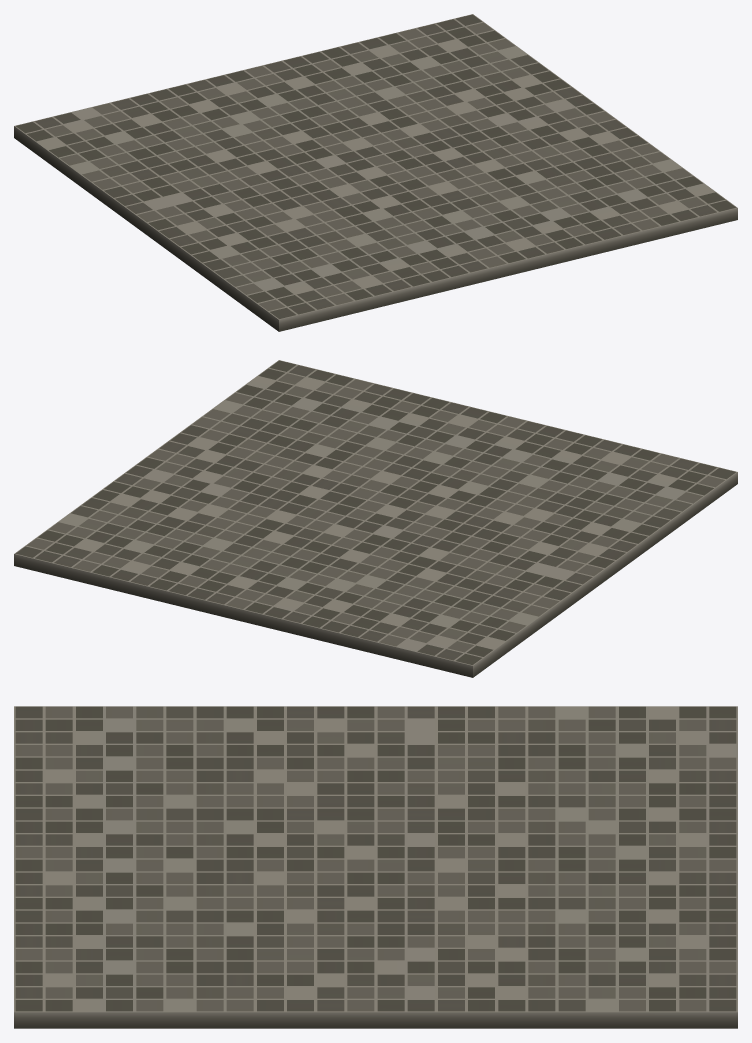
Rendered from Pavement_1R_12X12.fbx.
The picture shows the model from 3 angles, top to bottom: view 1: azimuth 30°, elevation 25°; view 2: azimuth 150°, elevation 25°; view 3: azimuth 270°, elevation 25°; orthographic projection. The views are drawn at different scales.
Visible parts, largest first — view 1: Pavement_1R_12X12; view 2: Pavement_1R_12X12; view 3: Pavement_1R_12X12.
Part boxes in pixels (x1,y1,x2,y2): Pavement_1R_12X12: (14, 14, 737, 331); Pavement_1R_12X12: (14, 360, 737, 677); Pavement_1R_12X12: (14, 706, 737, 1028).
Size of the model in its own units: 1200 by 30.31 by 1200.
